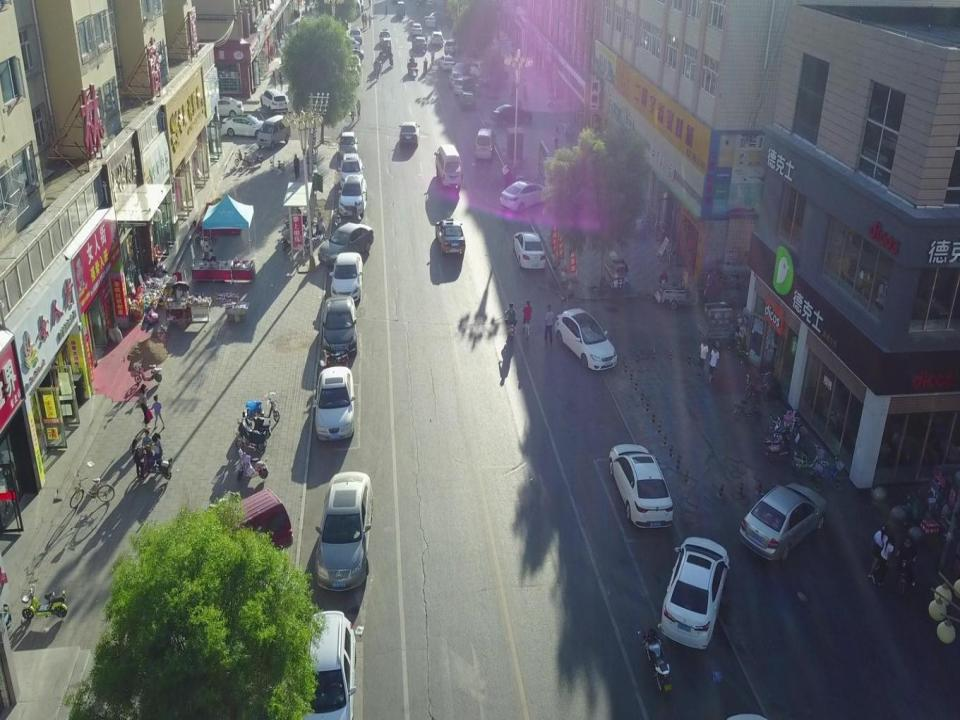car: (660, 535, 730, 652), (739, 480, 829, 565), (314, 471, 374, 593), (298, 611, 356, 720), (608, 443, 674, 528), (556, 308, 618, 371), (313, 366, 356, 442), (318, 222, 374, 266), (321, 294, 358, 358), (499, 179, 552, 213), (329, 252, 363, 303), (337, 173, 368, 218), (511, 231, 546, 269), (434, 217, 465, 255), (222, 114, 266, 139), (338, 153, 364, 190), (491, 104, 533, 126), (204, 95, 244, 118), (260, 88, 288, 116), (337, 131, 359, 158), (399, 120, 421, 147)
van: (190, 488, 293, 580), (256, 114, 292, 150), (434, 144, 462, 188), (474, 127, 497, 159)
